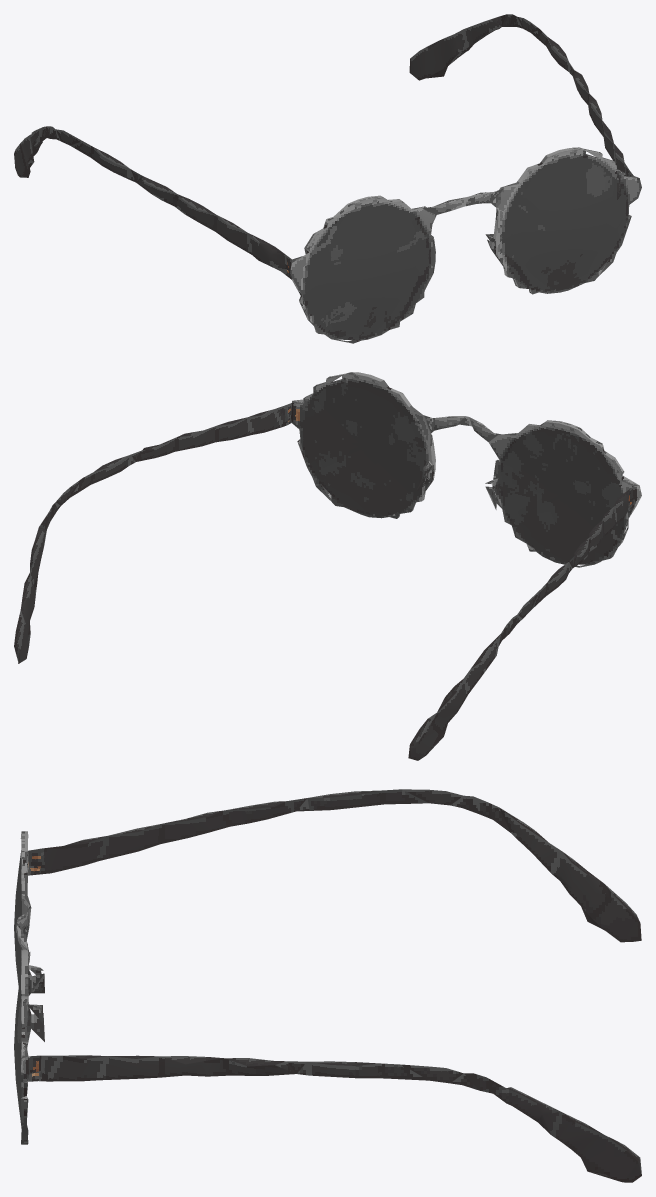
The model's file is round_spectacles.glb.
3 renders of one model, top to bottom at view 1: azimuth 30°, elevation 25°; view 2: azimuth 150°, elevation 25°; view 3: azimuth 270°, elevation 25°, orthographic. The views are drawn at different scales.
Parts seen in each view (by area): view 1: mesh; view 2: mesh; view 3: mesh.
Boxes of the visible parts, <box> form: mesh: <box>14,14,641,343</box>; mesh: <box>14,372,641,760</box>; mesh: <box>14,789,641,1182</box>.
Bounding box in the file's own units: 34.38 × 10 × 32.82.
Materials: 1 (1 with a texture image).
